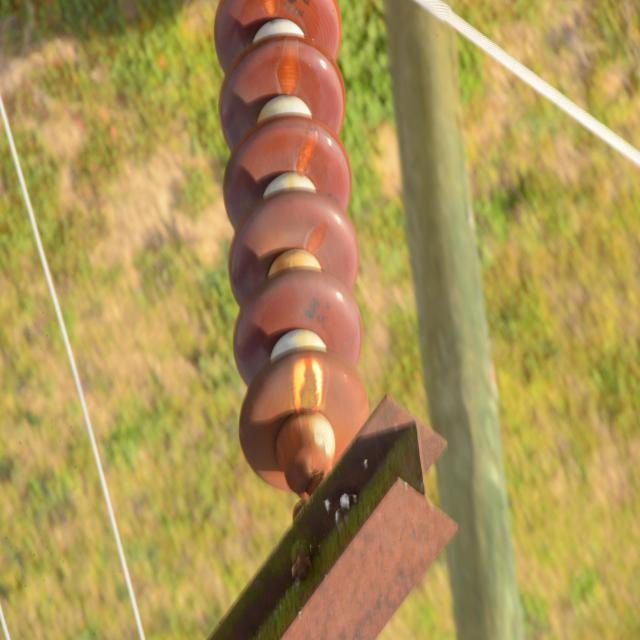insulator: (214, 0, 369, 492)
